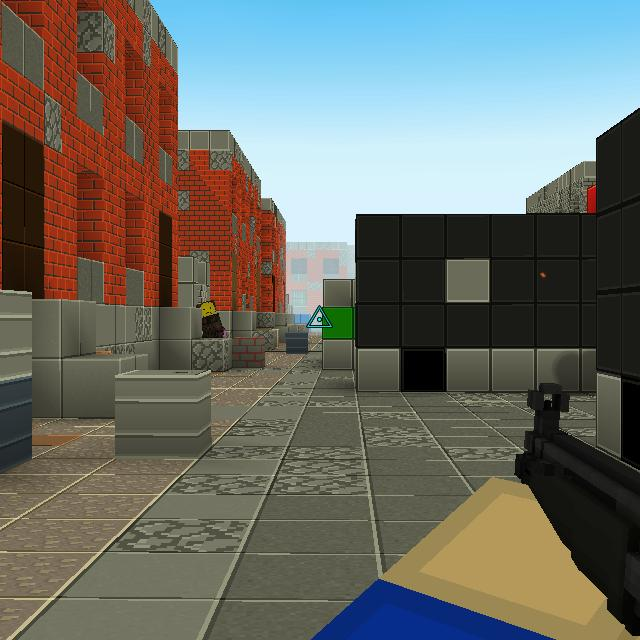enemy: (197, 300, 225, 339)
